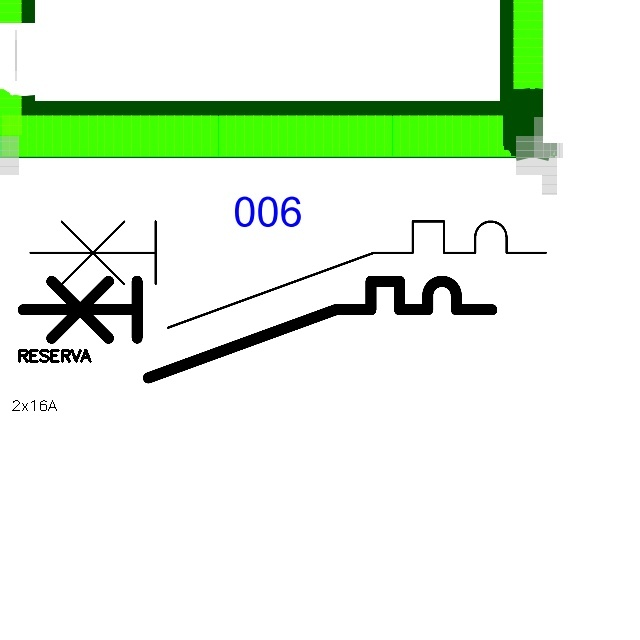interruptor_termomagnetico: (17, 208, 559, 341), (11, 269, 504, 390)
